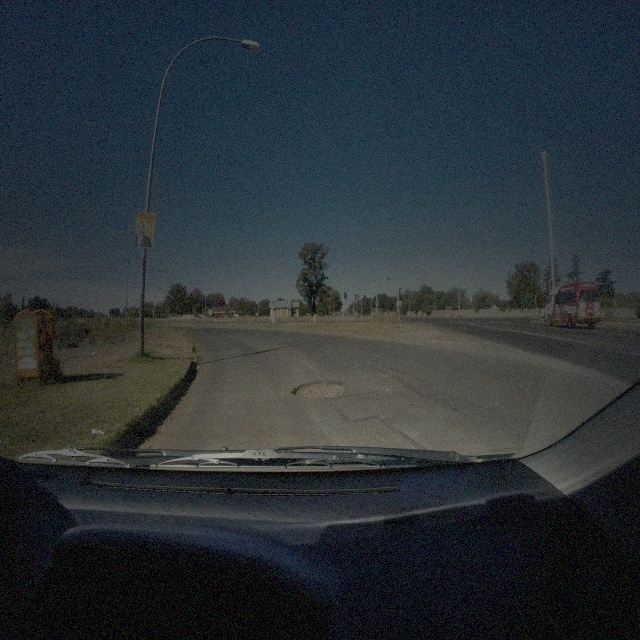pothole: (290, 376, 348, 398)
